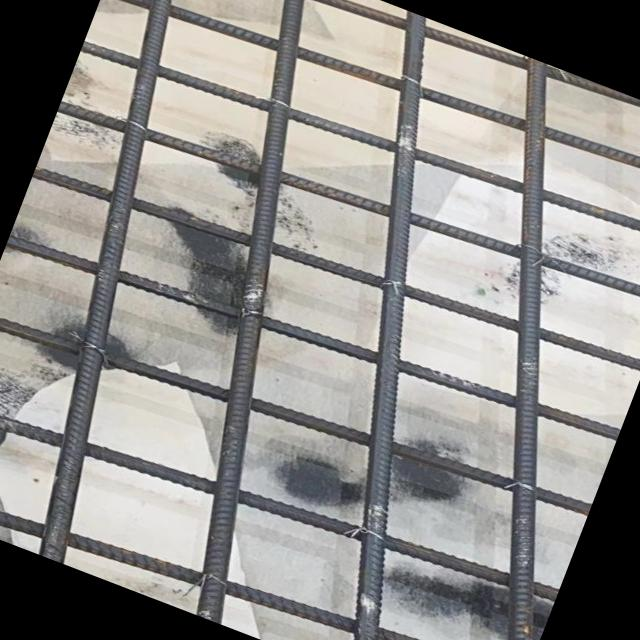ribbed bar: (176, 10, 604, 640), (58, 0, 450, 624), (298, 57, 640, 640), (5, 198, 621, 476), (32, 130, 640, 406), (0, 272, 592, 552), (0, 0, 293, 563), (56, 65, 640, 342), (0, 360, 558, 640), (80, 7, 640, 281), (102, 0, 640, 222), (0, 445, 509, 640), (123, 0, 640, 167), (564, 103, 640, 351)
